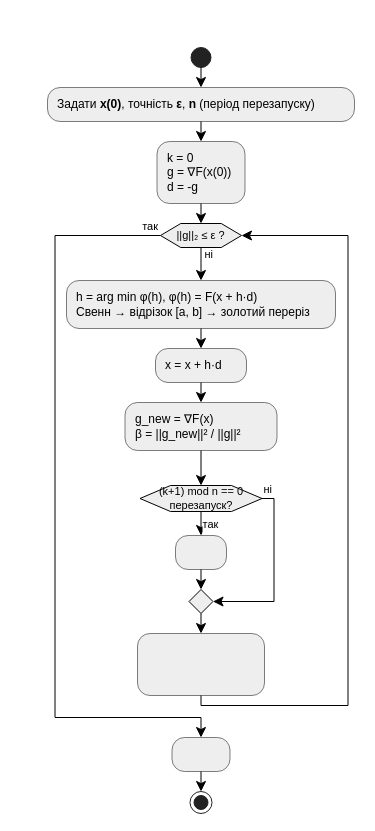
The diagram is 375 pixels wide and 831 high, and some of its shapes have lost their labels. Each missing label, with the box of its shape:
d = -g_new + β·d g = g_new k = k + 1: (137, 633, 264, 695)
x* = x: (171, 737, 230, 771)
β = 0: (175, 535, 226, 569)
